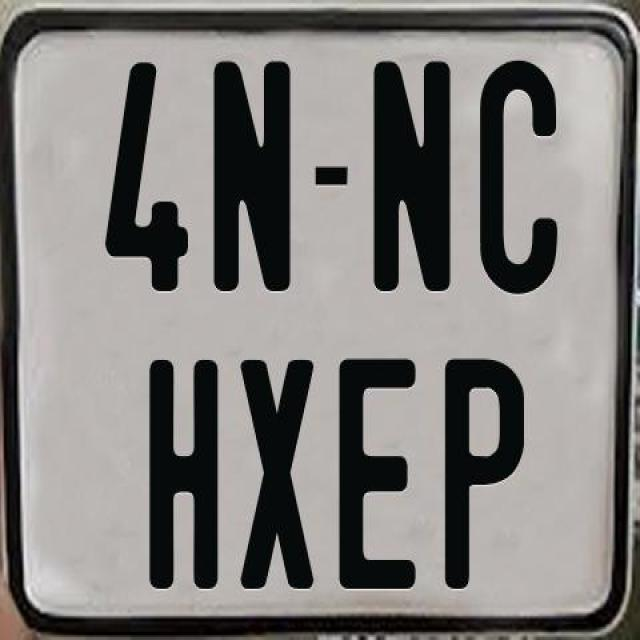4: (105, 59, 192, 294)
C: (481, 58, 558, 296)
E: (339, 357, 417, 597)
H: (148, 360, 216, 589)
N: (369, 59, 452, 298), (209, 58, 291, 292)
P: (444, 358, 530, 594)
X: (237, 357, 311, 589)
